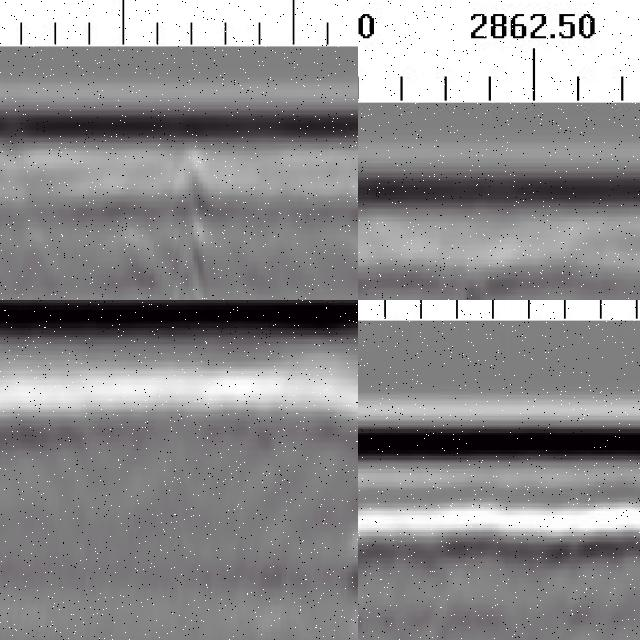crack: (171, 146, 218, 301)
loose: (359, 514, 440, 640)
